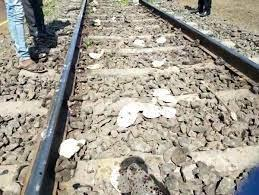mulch: (116, 100, 177, 133)
